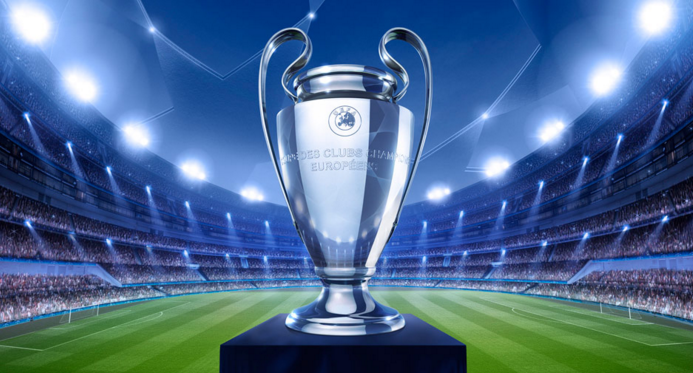trophy: (220, 26, 471, 373)
